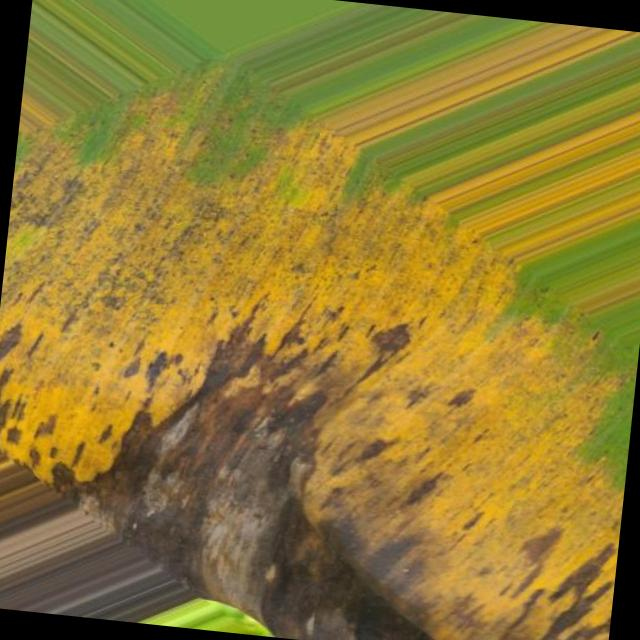Banana_Black_Sigatoka: (287, 308, 639, 640), (0, 182, 318, 542)
